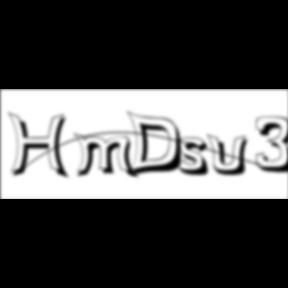D: (127, 110, 190, 180)
H: (8, 112, 74, 182)
m: (73, 132, 141, 181)
s: (178, 137, 216, 179)
u: (207, 132, 255, 178)
